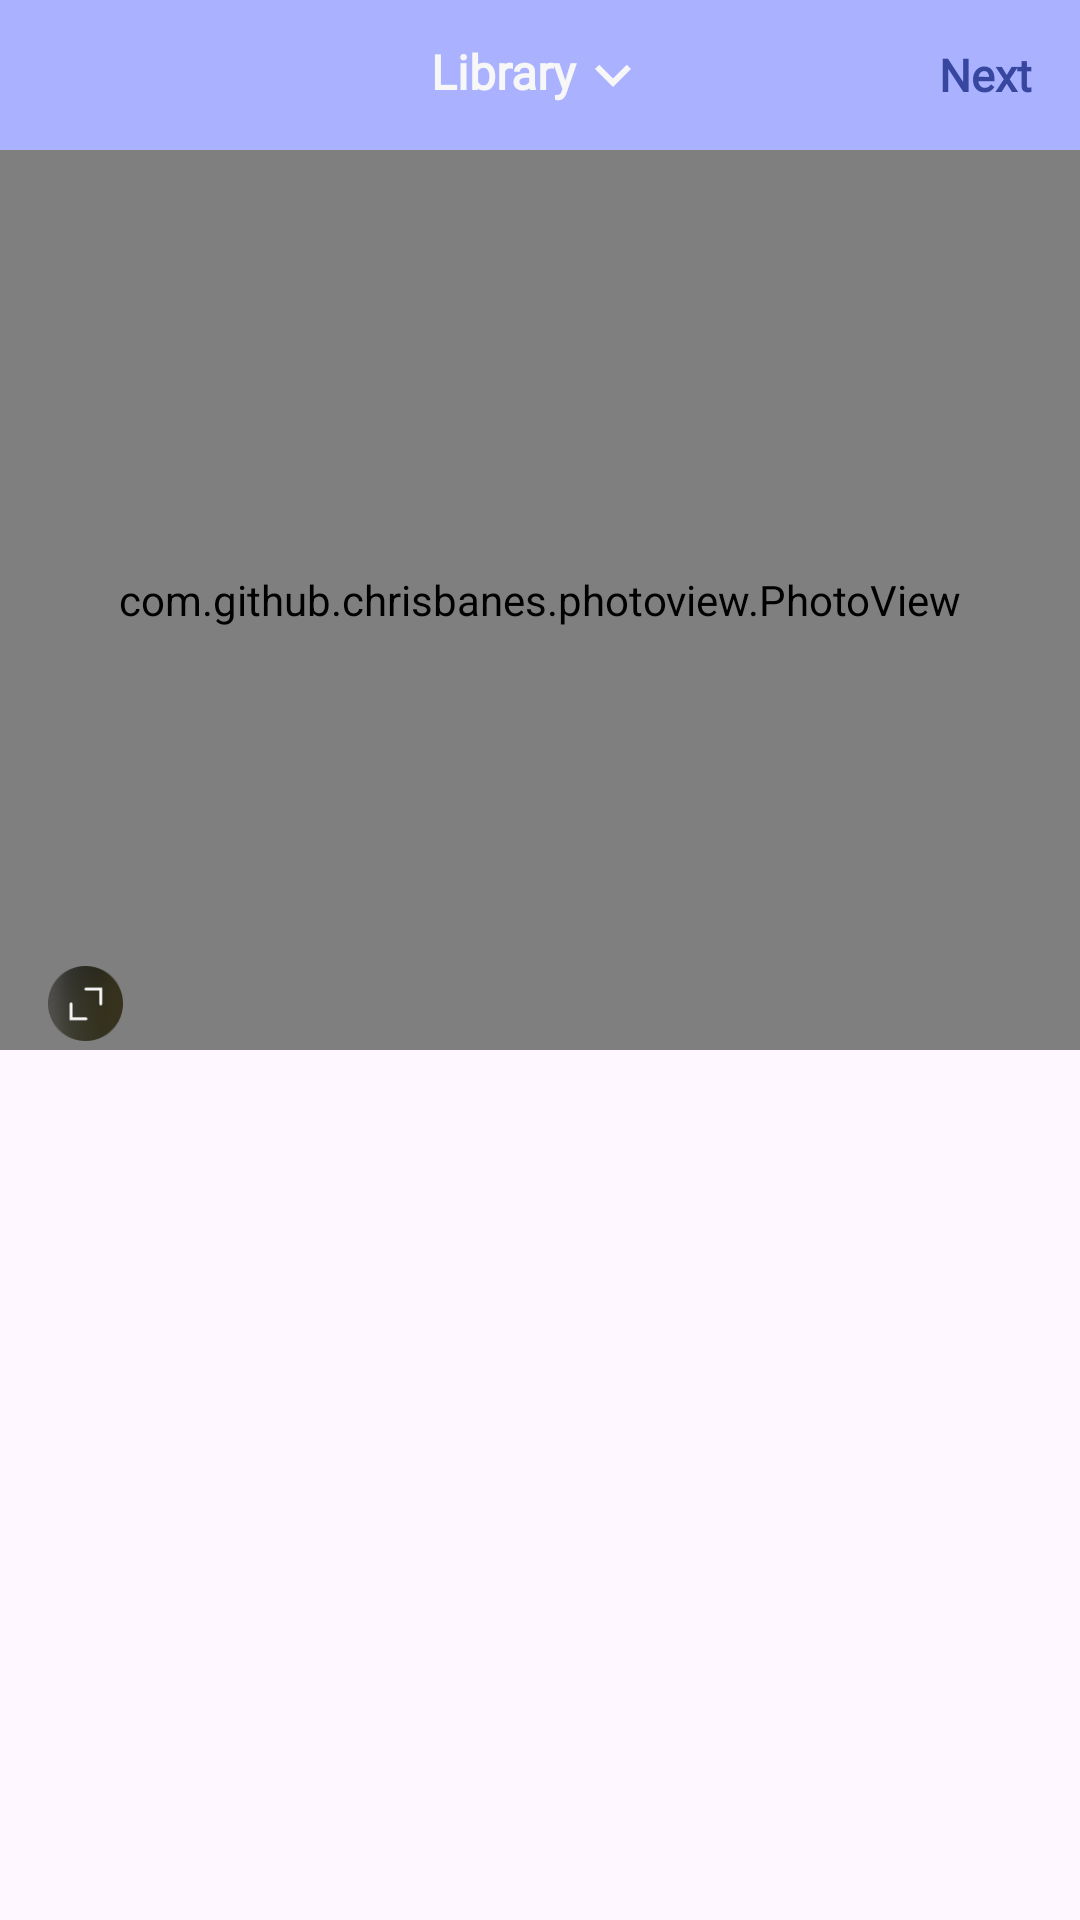

Where icons sit on this 1080px×1920px app screen, as rect(x1, y1, x2, y2):
fragment library zoom: rect(48, 966, 123, 1041)
